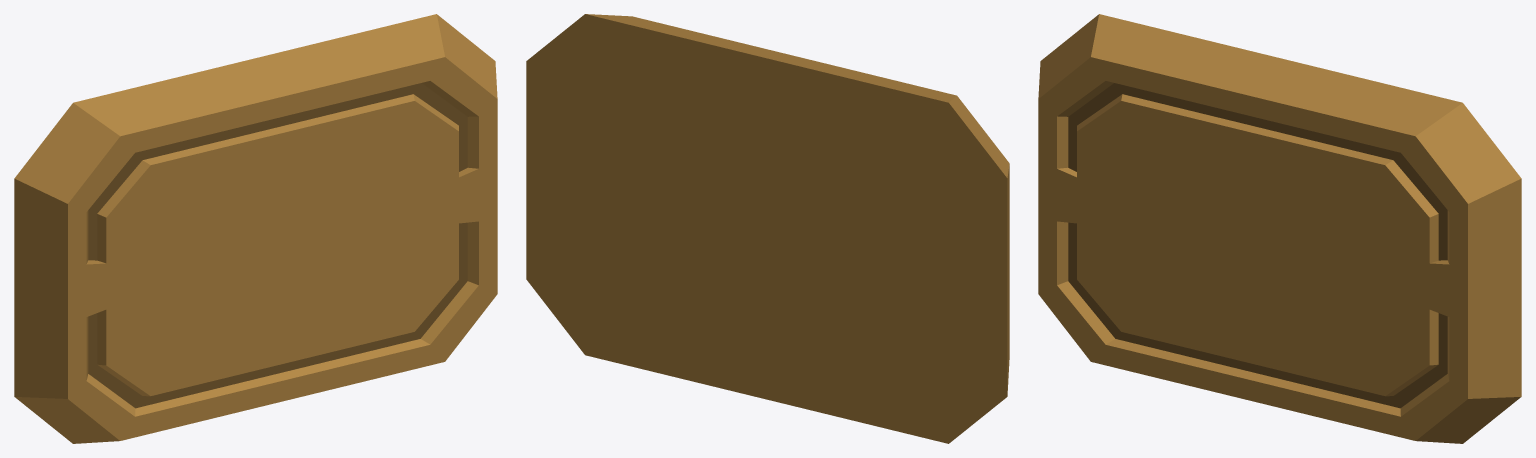
The model's file is quaternius-modular-sci-fi-details-basic-4.glb.
3 renders of one model, left to right at view 1: azimuth 30°, elevation 25°; view 2: azimuth 150°, elevation 25°; view 3: azimuth 330°, elevation 25°, orthographic.
Visible parts, largest first — view 1: Details_Basic_4; view 2: Details_Basic_4; view 3: Details_Basic_4.
Boxes of the visible parts, box(x1,y1,x2,y2) form: Details_Basic_4: box(14, 14, 497, 443); Details_Basic_4: box(526, 14, 1009, 443); Details_Basic_4: box(1038, 14, 1521, 443).
Size of the model in its own units: 0.6795 by 0.4606 by 0.068.
